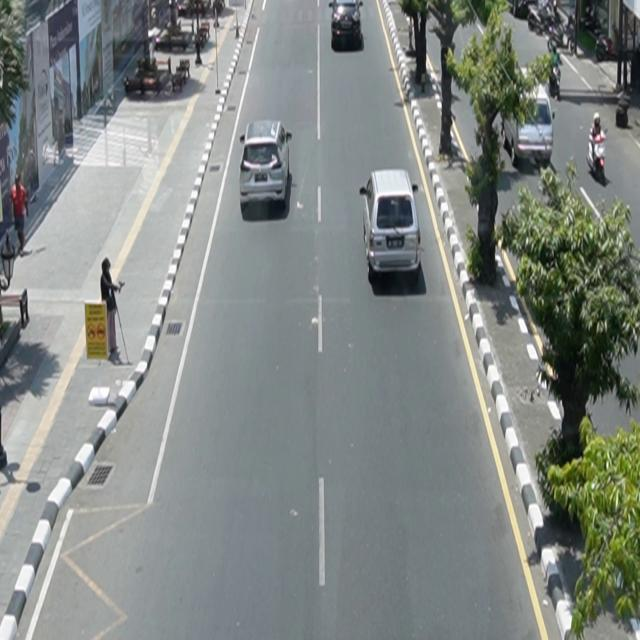car: (360, 169, 422, 281), (502, 74, 556, 168), (240, 120, 293, 210), (329, 1, 364, 50)
